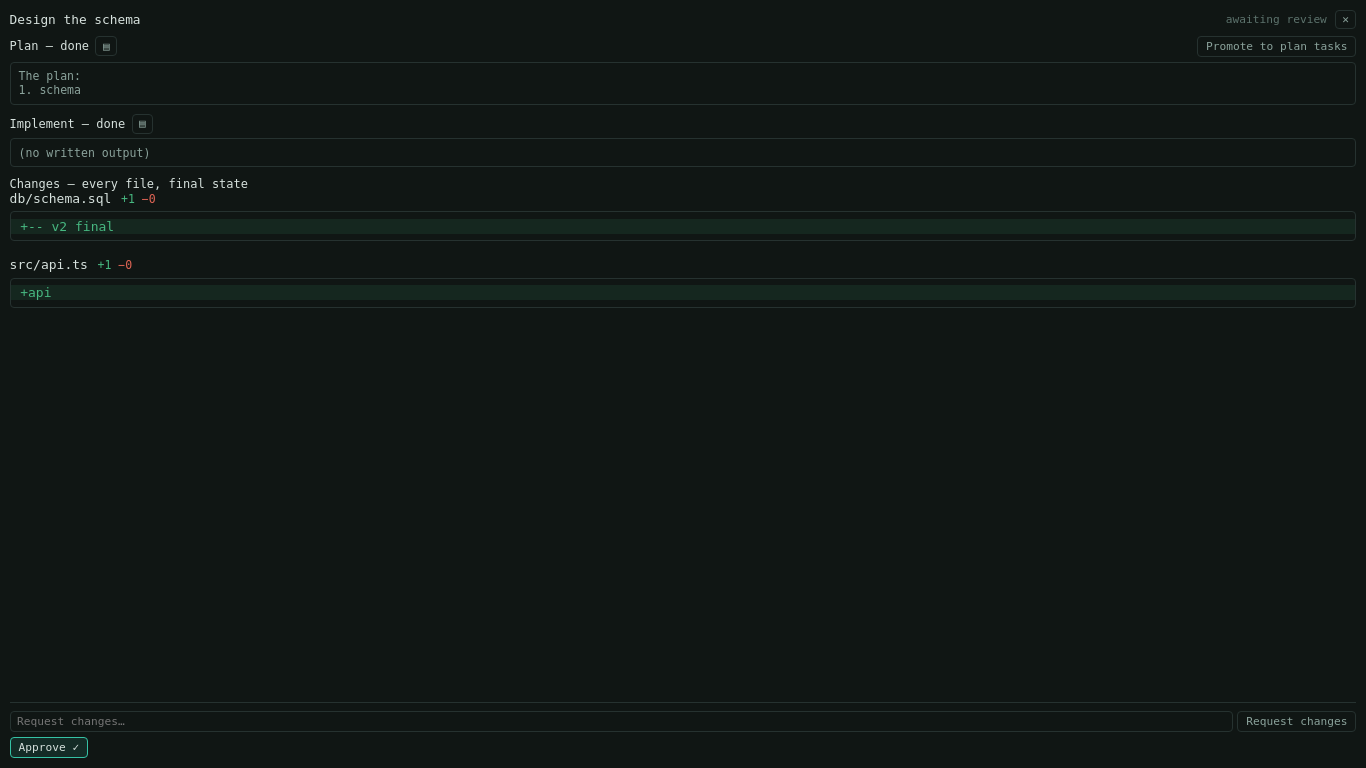
Test: ReviewWorkbench › keeps the workbench up when promotion is refused or fails
Expected: the text "The plan: 1. schema" is shown, [19,69,81,97]
Click the button with aria-label "Promote Plan output to plan tasks": (1277, 46) [1197,36,1356,57]
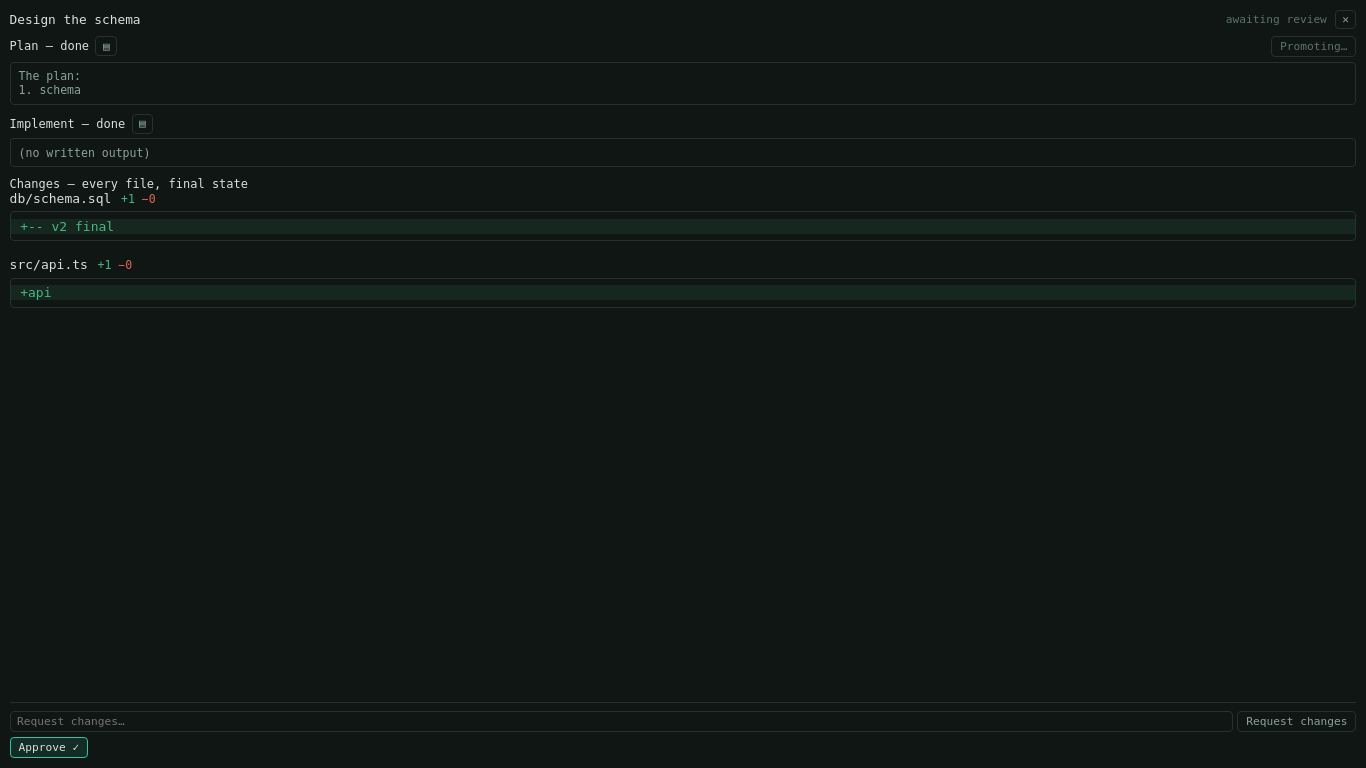
Click the button with aria-label "Promote Plan output to plan tasks": (1314, 46) [1271,36,1356,57]
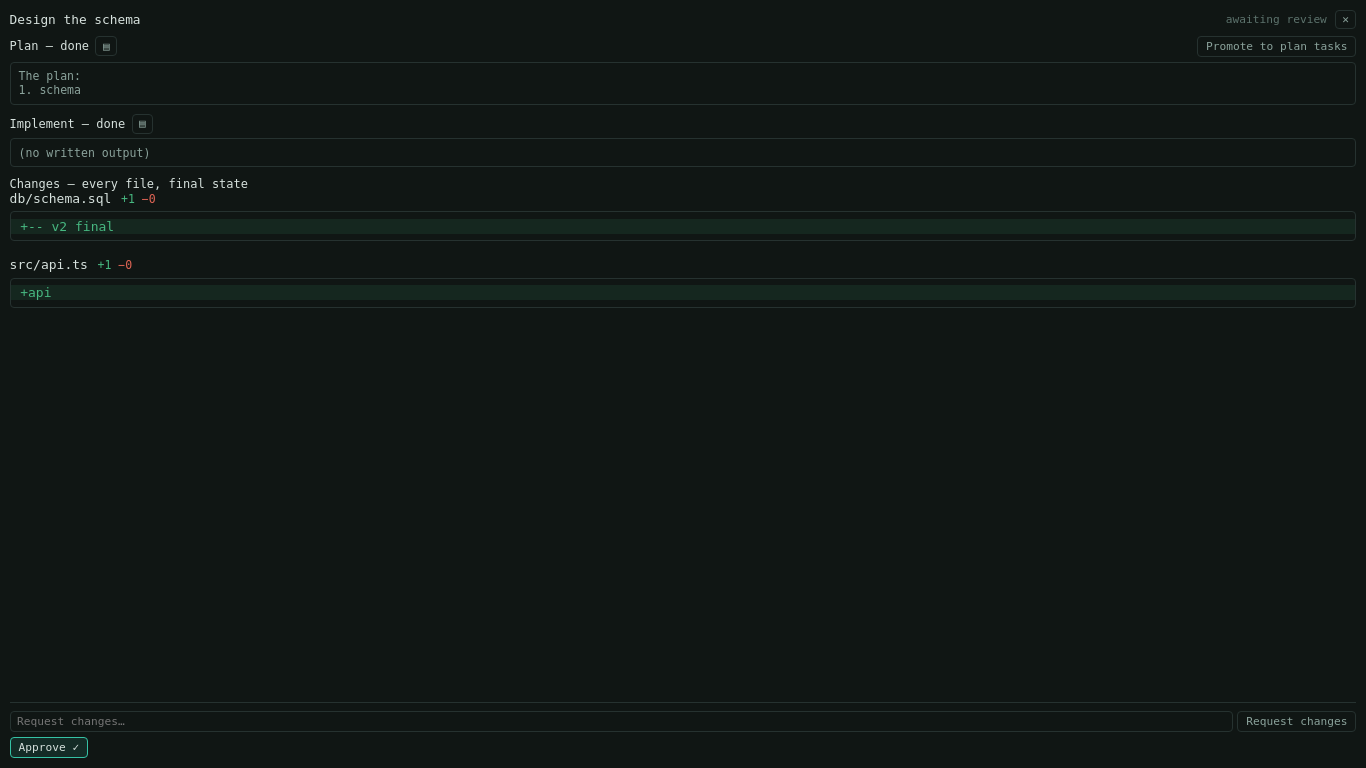
Expected: the button with aria-label "Promote Plan output to plan tasks" is enabled, [1197,36,1356,57]
